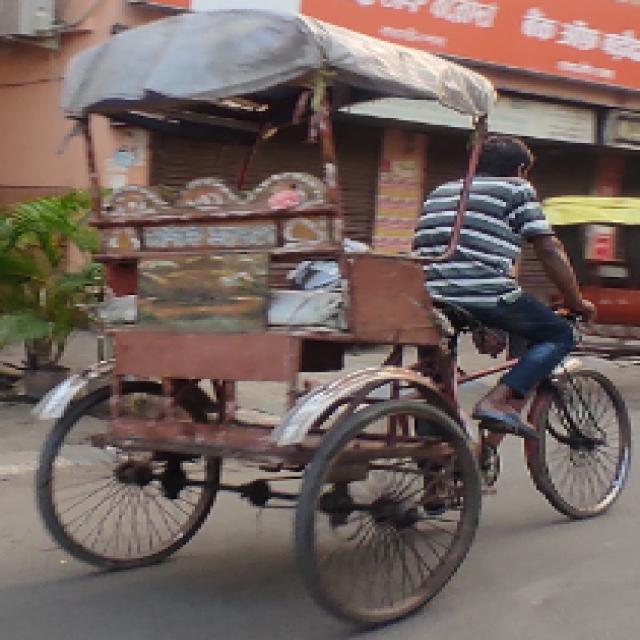rickshaw: (18, 6, 636, 626)
